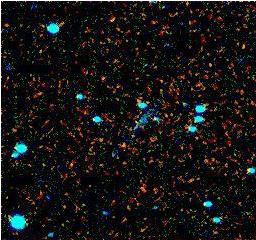star: (109, 130, 139, 160)
